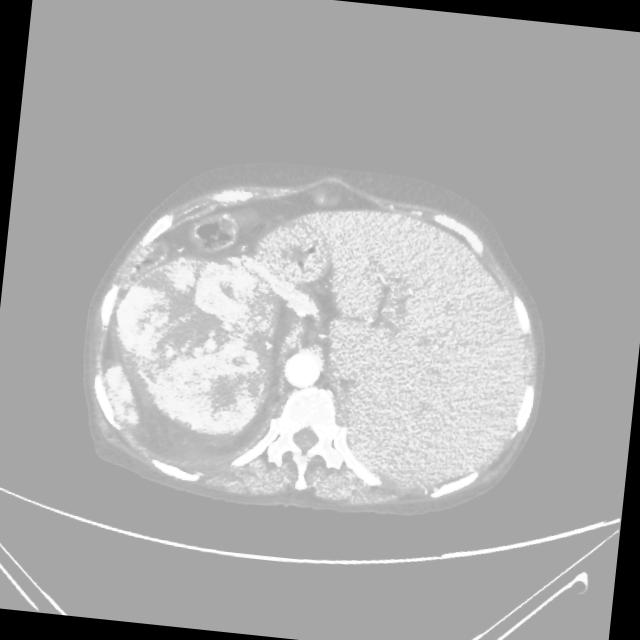TUMOR: (71, 273, 276, 482)
